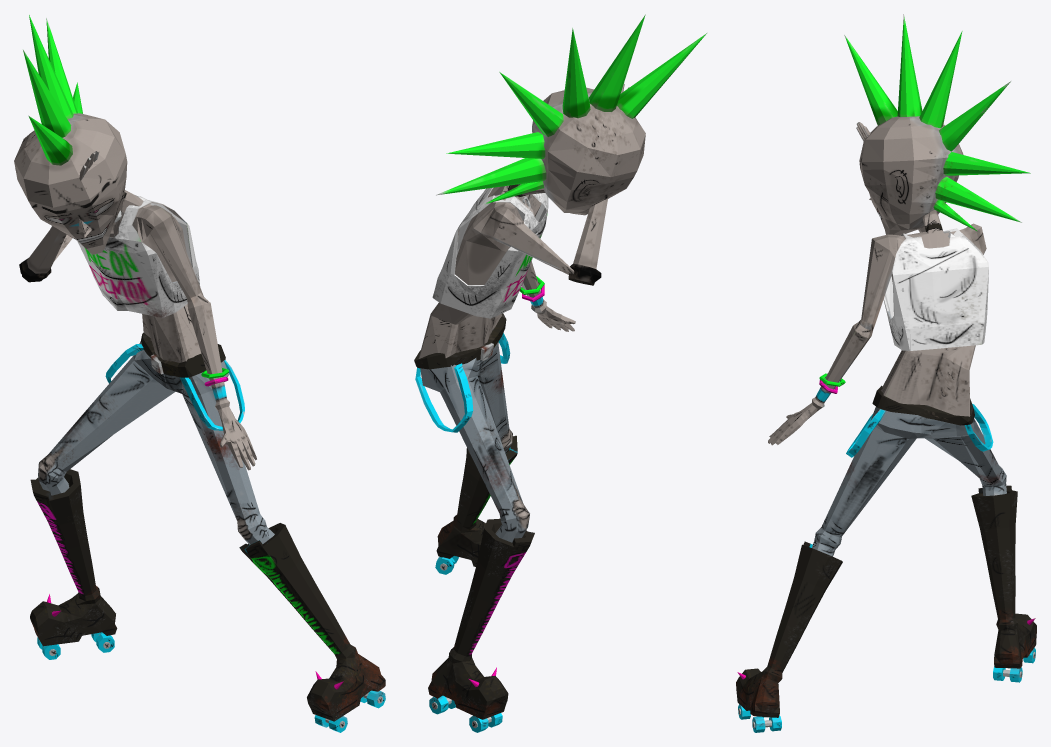
The model's file is punkAnimation_000001.obj.
3 views of the same model, side by side, from view 1: azimuth 30°, elevation 25°; view 2: azimuth 150°, elevation 25°; view 3: azimuth 270°, elevation 25° (orthographic). The views are drawn at different scales.
Visible parts, largest first — view 1: Cube.004_Cube.003; view 2: Cube.004_Cube.003; view 3: Cube.004_Cube.003.
Boxes of the visible parts, x1,y1,x2,y2 form: Cube.004_Cube.003: [14, 15, 385, 732]; Cube.004_Cube.003: [414, 14, 706, 732]; Cube.004_Cube.003: [736, 14, 1036, 732].
Bounding box in the file's own units: 3.2 × 6.7 × 3.01.
